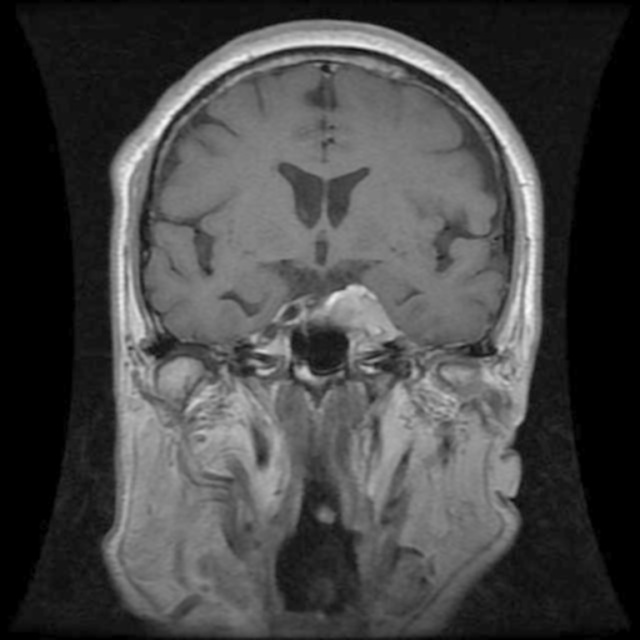meningioma tumor: (264, 248, 398, 356)
